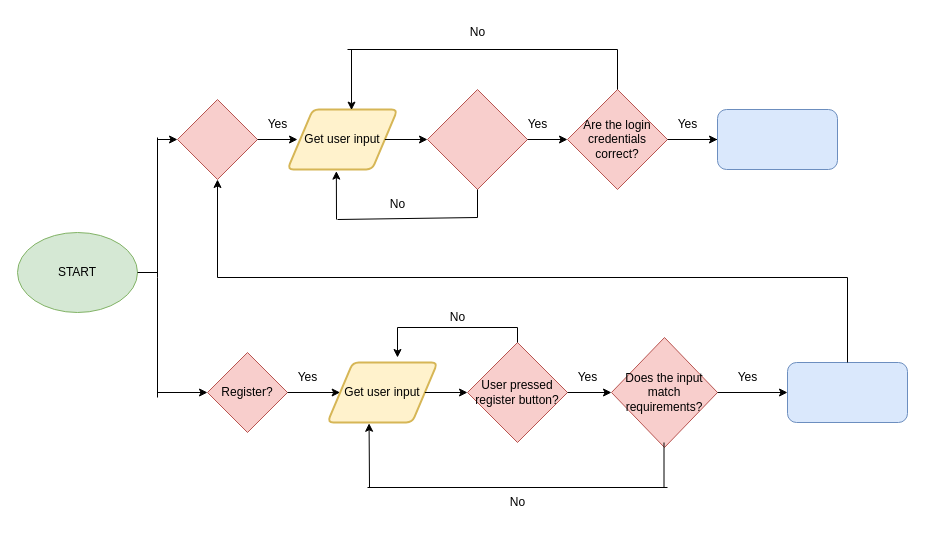
This 925x534 diagram has some shape labels left out. Each missing label, with the centre of its shape:
"Login user" belongs at (x=777, y=139).
"Login?" belongs at (x=217, y=139).
"Save user" belongs at (x=847, y=392).
"User pressed login button?" belongs at (x=477, y=139).
